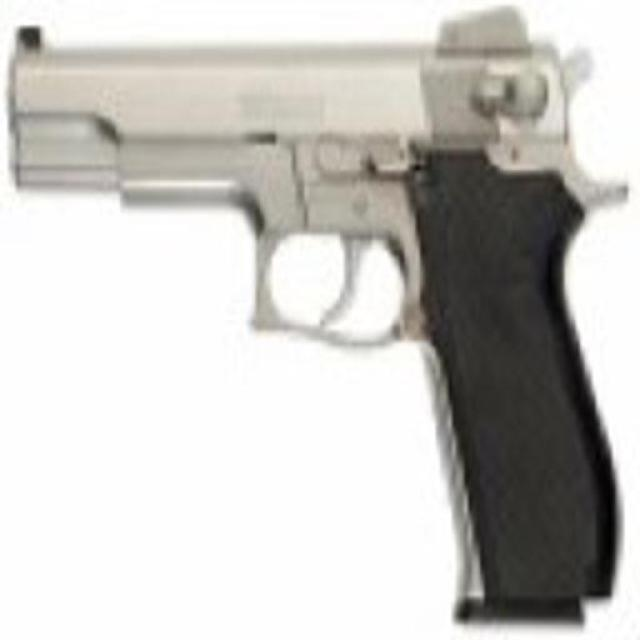pistol: (20, 15, 620, 617)
